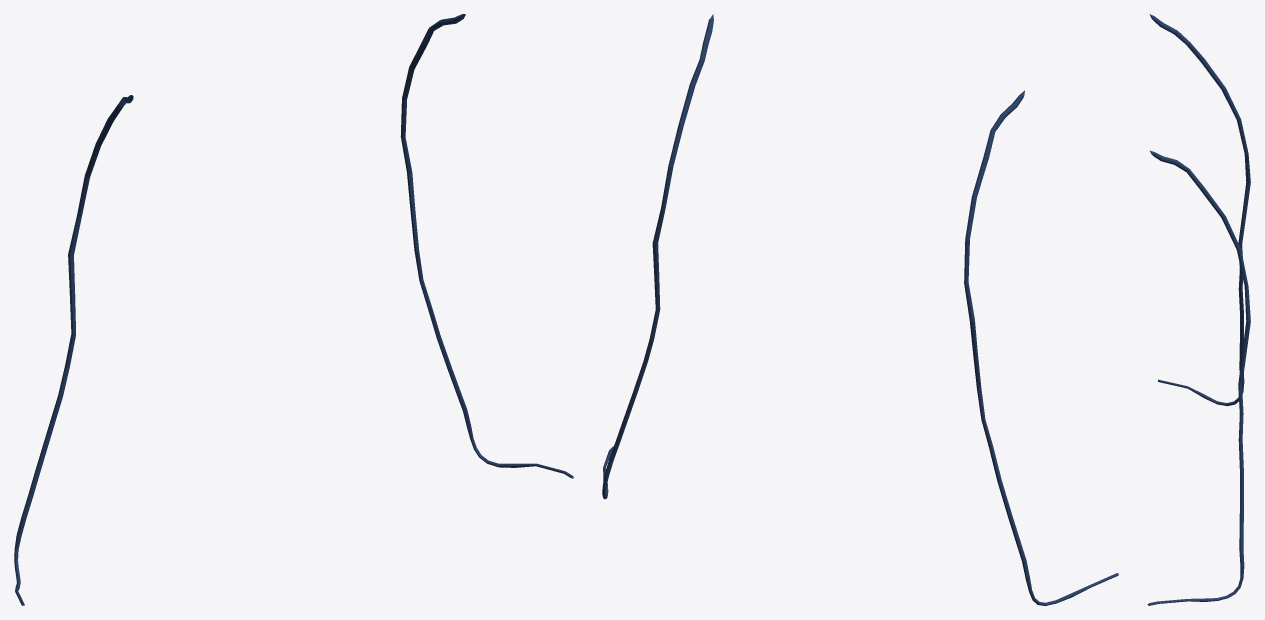
Rendered from Vena Tibial Anterior.FBX.
3 views of the same model, side by side, from view 1: azimuth 30°, elevation 25°; view 2: azimuth 150°, elevation 25°; view 3: azimuth 270°, elevation 25° (orthographic). The views are drawn at different scales.
Visible parts, largest first — view 1: CS_Veins; view 2: CS_Veins; view 3: CS_Veins.
Part boxes in pixels (left/top/right/bottom): CS_Veins: left=14, top=14, right=573, bottom=605; CS_Veins: left=602, top=14, right=1118, bottom=605; CS_Veins: left=1147, top=14, right=1250, bottom=605.
Size of the model in its own units: 1563 by 1368 by 306.
